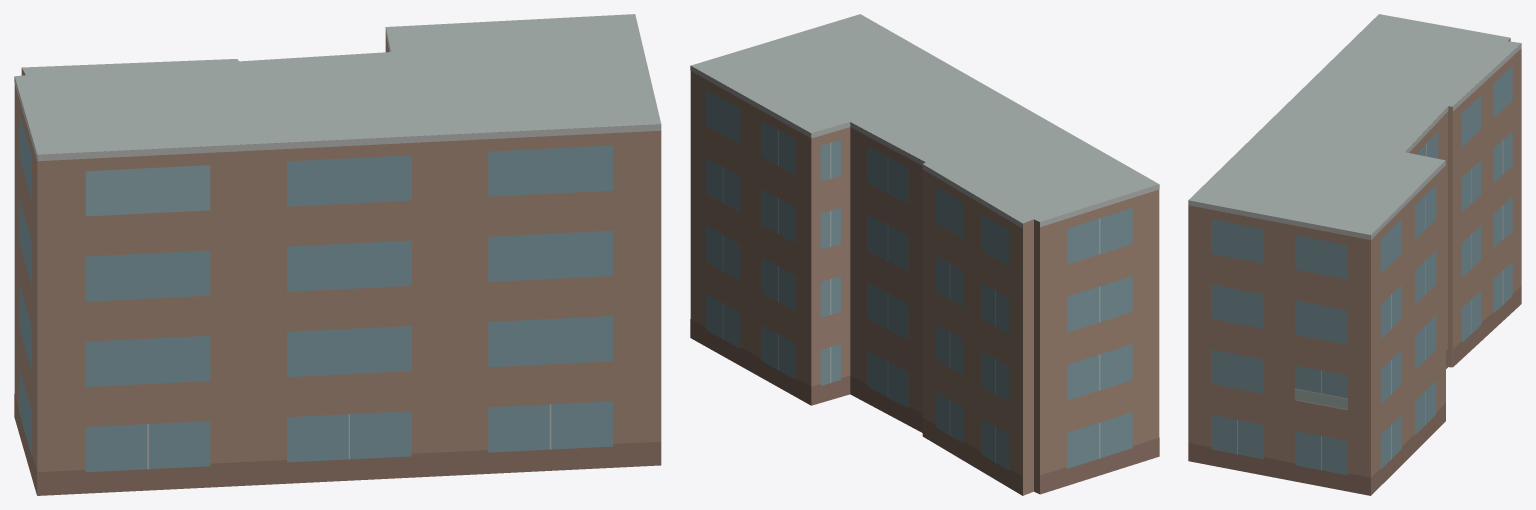
The model's file is survey-upis-32561154.glb.
3 views of the same model, side by side, from view 1: azimuth 30°, elevation 25°; view 2: azimuth 150°, elevation 25°; view 3: azimuth 270°, elevation 25° (orthographic). The views are drawn at different scales.
Parts seen in each view (by area): view 1: survey-upis-32561154.tmp; view 2: survey-upis-32561154.tmp; view 3: survey-upis-32561154.tmp.
Boxes of the visible parts, x1,y1,x2,y2 form: survey-upis-32561154.tmp: [14, 14, 661, 495]; survey-upis-32561154.tmp: [690, 14, 1159, 495]; survey-upis-32561154.tmp: [1188, 14, 1521, 495].
Size of the model in its own units: 23.28 by 12.8 by 14.84.
